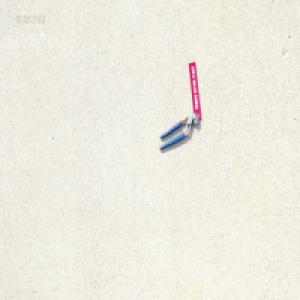Label: (187, 60, 201, 119)
Pliers: (157, 111, 198, 151)
